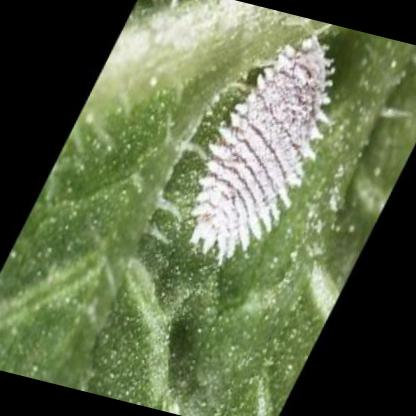mealy bug: (192, 37, 326, 259)
